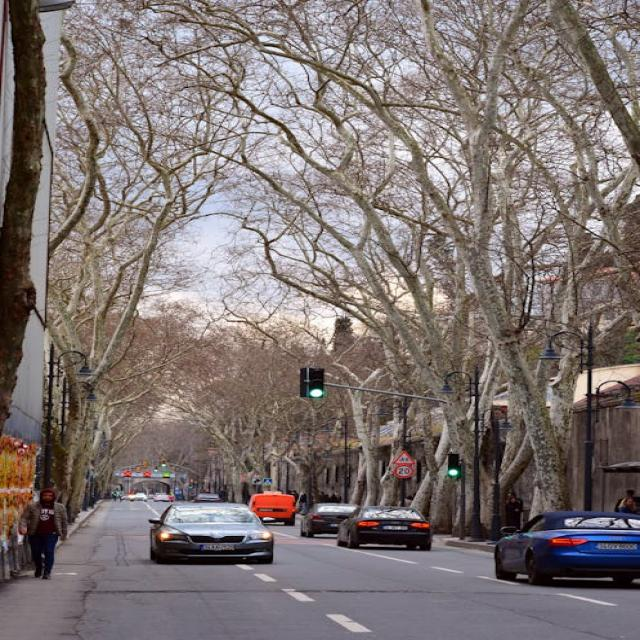car: (493, 511, 640, 585), (150, 501, 274, 565), (338, 506, 433, 550), (302, 502, 359, 539), (249, 492, 296, 526)
